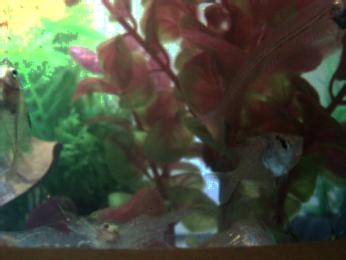X-ray fish: (200, 132, 306, 208), (1, 63, 31, 183)
glassfish: (182, 1, 346, 138)
siberian prawn: (65, 209, 204, 252), (1, 219, 97, 250)
